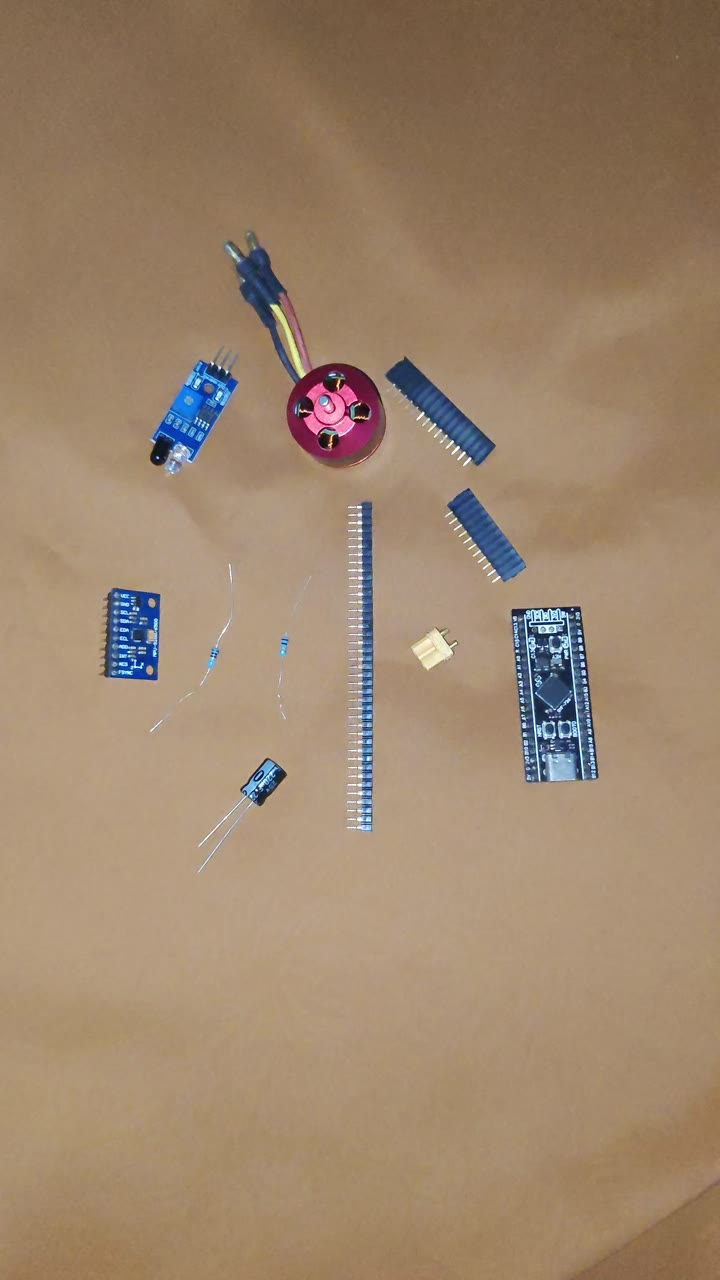bldc_motor: (212, 297, 388, 442)
elco_capacitor: (238, 756, 288, 807)
ir_sensor: (149, 356, 240, 459)
mpu6500: (101, 584, 162, 671)
pin_header: (322, 459, 406, 823), (441, 435, 526, 572), (376, 353, 479, 440)
resistor: (155, 523, 250, 724), (252, 534, 323, 722)
stm32f4: (507, 599, 600, 789)
xt30_female: (409, 625, 458, 664)
